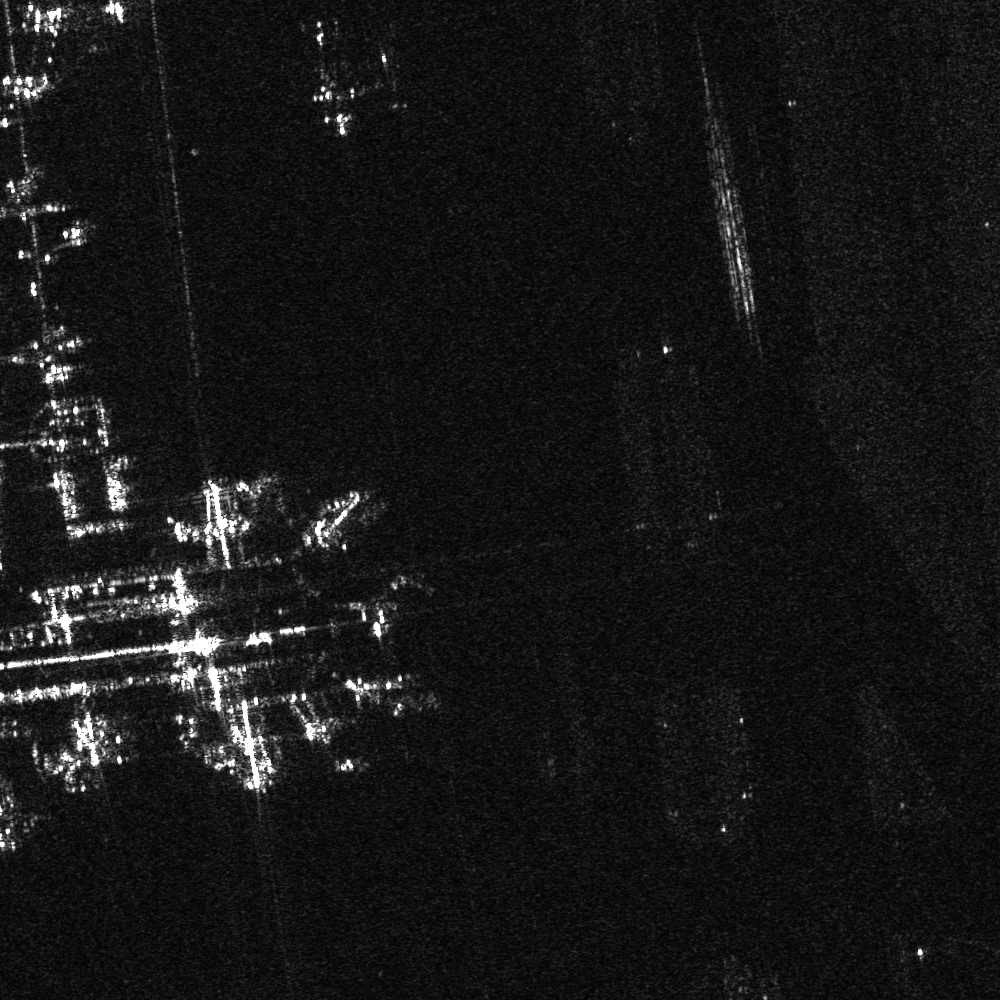Boeing787: (294, 40, 388, 144)
